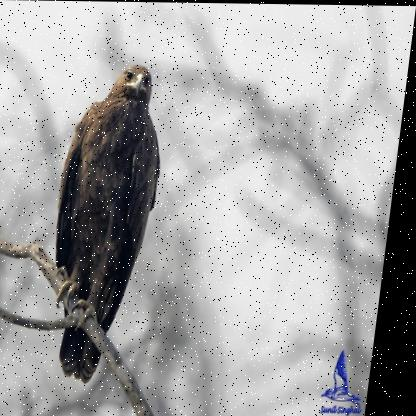Burung: (44, 60, 175, 385)
